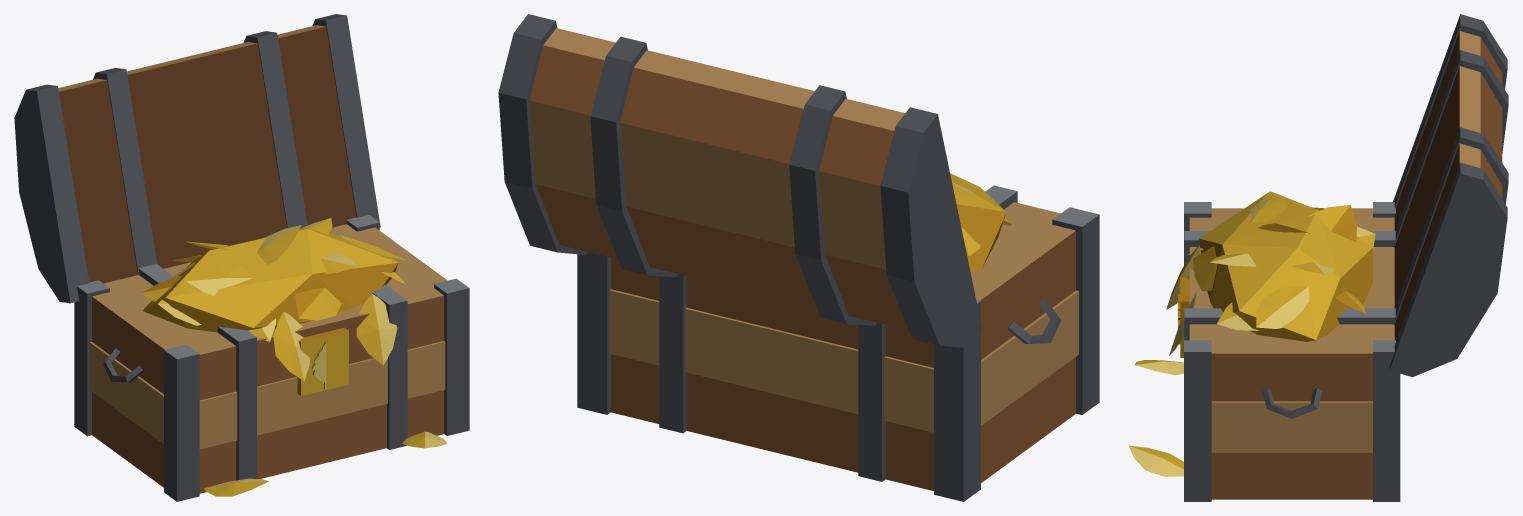
The model's file is leaf_chest.glb.
3 renders of one model, left to right at view 1: azimuth 30°, elevation 25°; view 2: azimuth 150°, elevation 25°; view 3: azimuth 270°, elevation 25°, orthographic. The views are drawn at different scales.
Parts seen in each view (by area): view 1: leaf_chest; view 2: leaf_chest; view 3: leaf_chest.
Part boxes in pixels (box(x1,y1,x2,y2)): leaf_chest: box(14, 14, 469, 501); leaf_chest: box(498, 14, 1099, 501); leaf_chest: box(1128, 14, 1508, 501).
Size of the model in its own units: 1.07 by 1 by 1.04.
